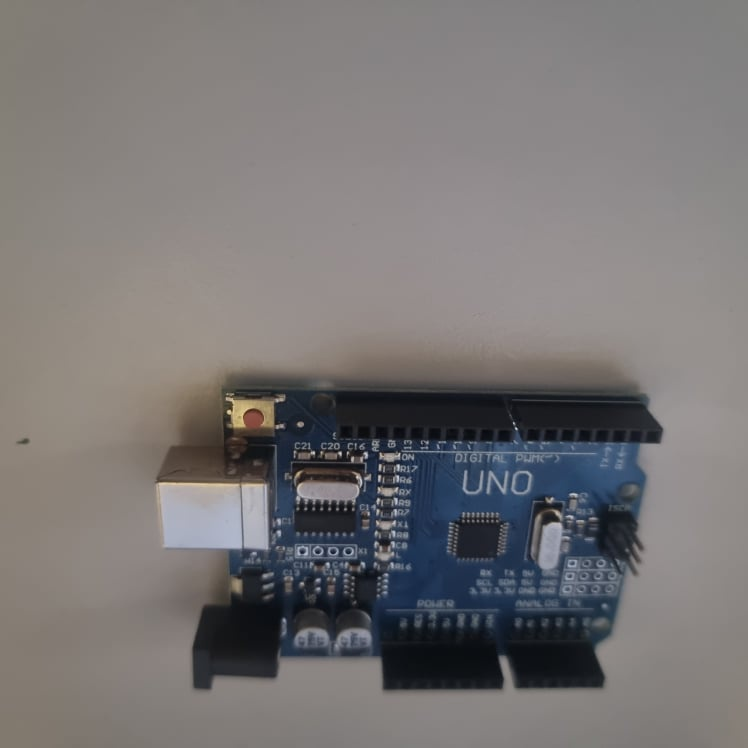UNO R3: (153, 391, 664, 689)
